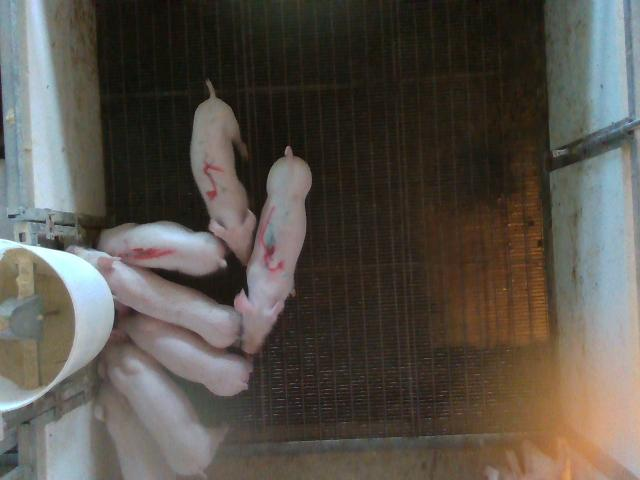pig-1: (98, 221, 226, 276)
pig-3: (234, 146, 311, 353)
pig-5: (191, 80, 256, 264)
